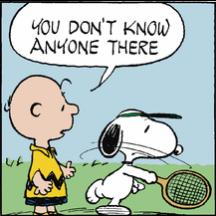charlie: (4, 73, 78, 215)
snoopy: (84, 107, 212, 215)
